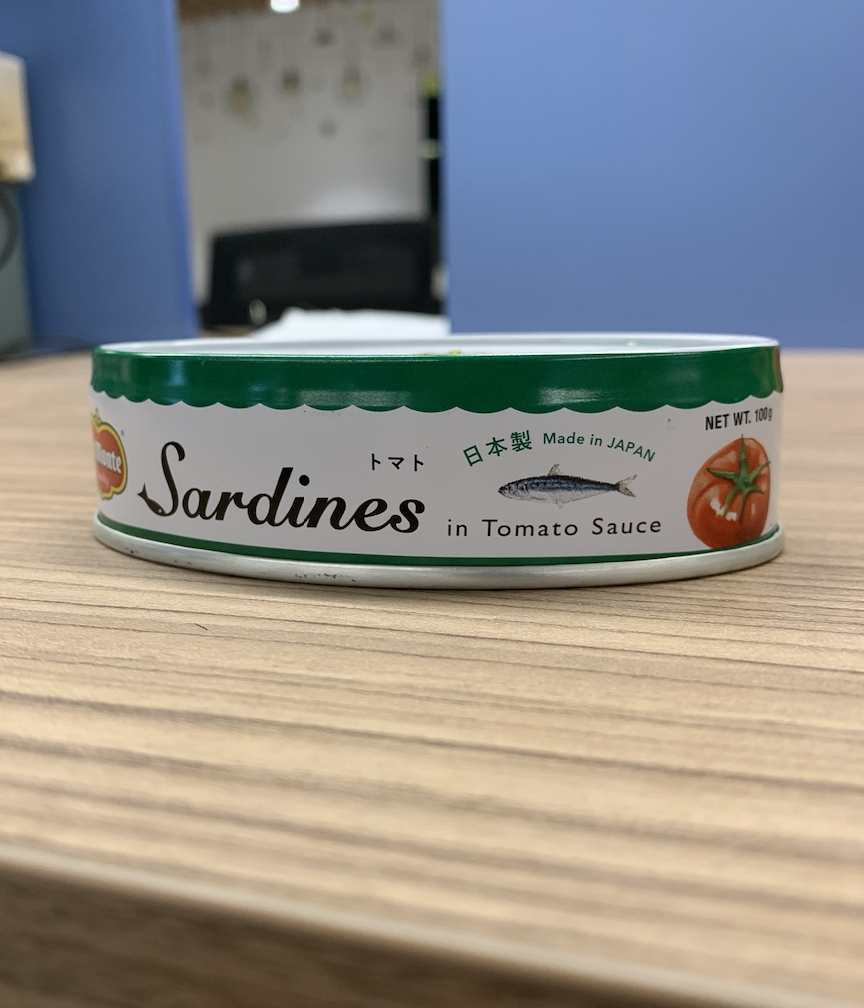sardines_150g: (97, 360, 789, 550)
